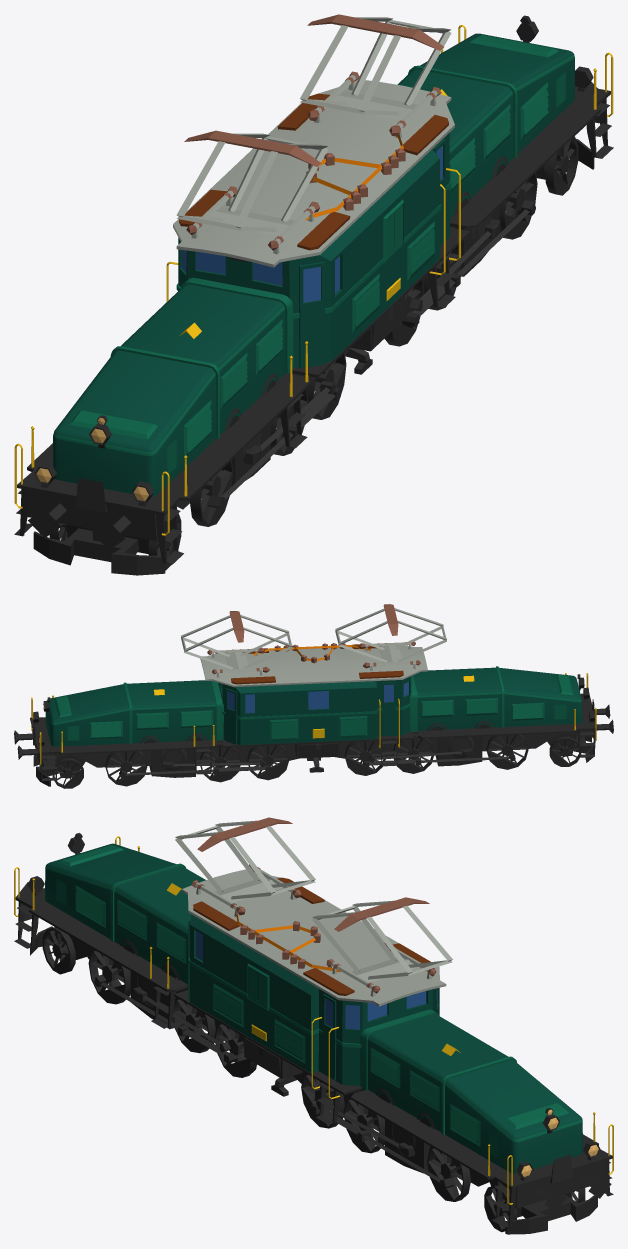
File: lowpoly_train.glb
The picture shows the model from 3 angles, top to bottom: view 1: azimuth 30°, elevation 25°; view 2: azimuth 150°, elevation 25°; view 3: azimuth 270°, elevation 25°; orthographic projection. The views are drawn at different scales.
Visible parts, largest first — view 1: train; view 2: train; view 3: train.
Part boxes in pixels (left/top/right/bottom): train: left=14, top=14, right=613, bottom=575; train: left=14, top=604, right=613, bottom=788; train: left=14, top=817, right=613, bottom=1234.
Size of the model in its own units: 4.99 by 1.57 by 3.85.
Materials: 1 (1 with a texture image).
